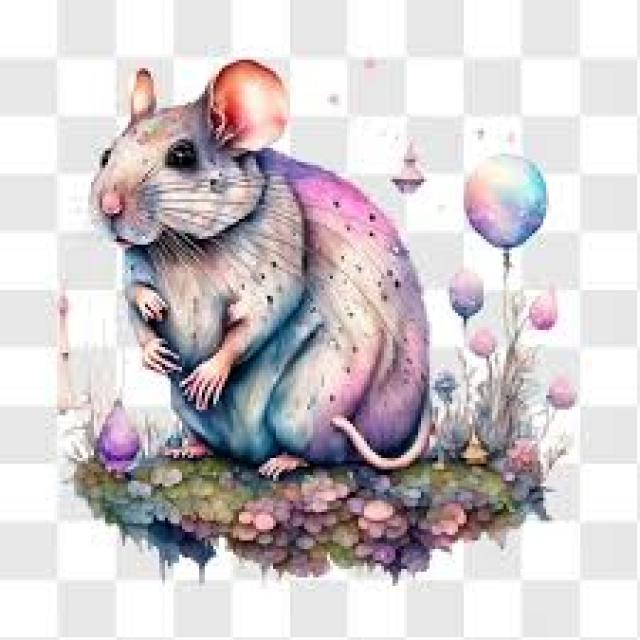rat: (89, 57, 432, 478)
